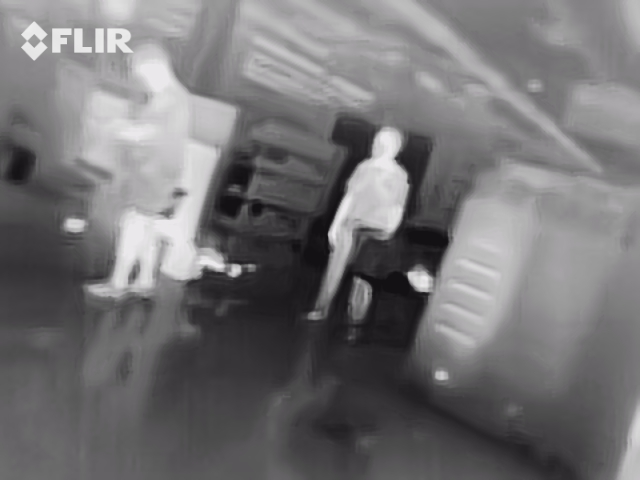head: (127, 42, 172, 94), (370, 126, 402, 163)
